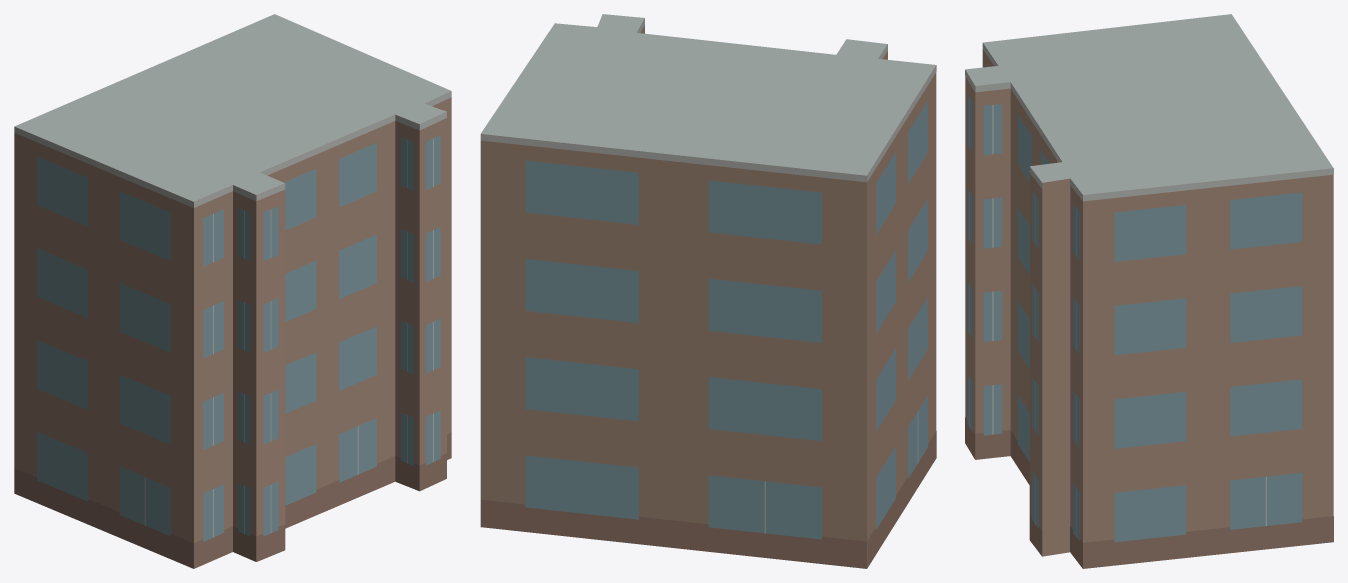
The model's file is survey-upis-32703848.glb.
The picture shows the model from 3 angles, left to right: view 1: azimuth 30°, elevation 25°; view 2: azimuth 150°, elevation 25°; view 3: azimuth 270°, elevation 25°; orthographic projection. The views are drawn at different scales.
Visible parts, largest first — view 1: survey-upis-32703848.tmp; view 2: survey-upis-32703848.tmp; view 3: survey-upis-32703848.tmp.
Boxes of the visible parts, x1,y1,x2,y2 form: survey-upis-32703848.tmp: (14,14,451,568); survey-upis-32703848.tmp: (480,14,936,568); survey-upis-32703848.tmp: (965,14,1333,568).
Bounding box in the file's own units: 15.03 × 14.45 × 12.93.
